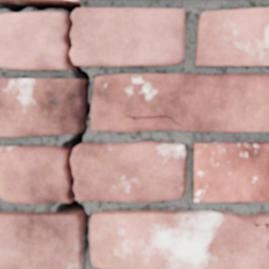brick: (90, 210, 268, 268), (92, 73, 268, 131), (0, 79, 85, 136), (0, 211, 84, 268), (195, 142, 268, 201), (197, 8, 268, 65), (0, 0, 81, 1)
broken_brick: (71, 141, 186, 201), (71, 8, 186, 66), (0, 146, 72, 203), (0, 13, 71, 69)
crack: (0, 1, 90, 268), (126, 114, 183, 126), (255, 222, 268, 233)
